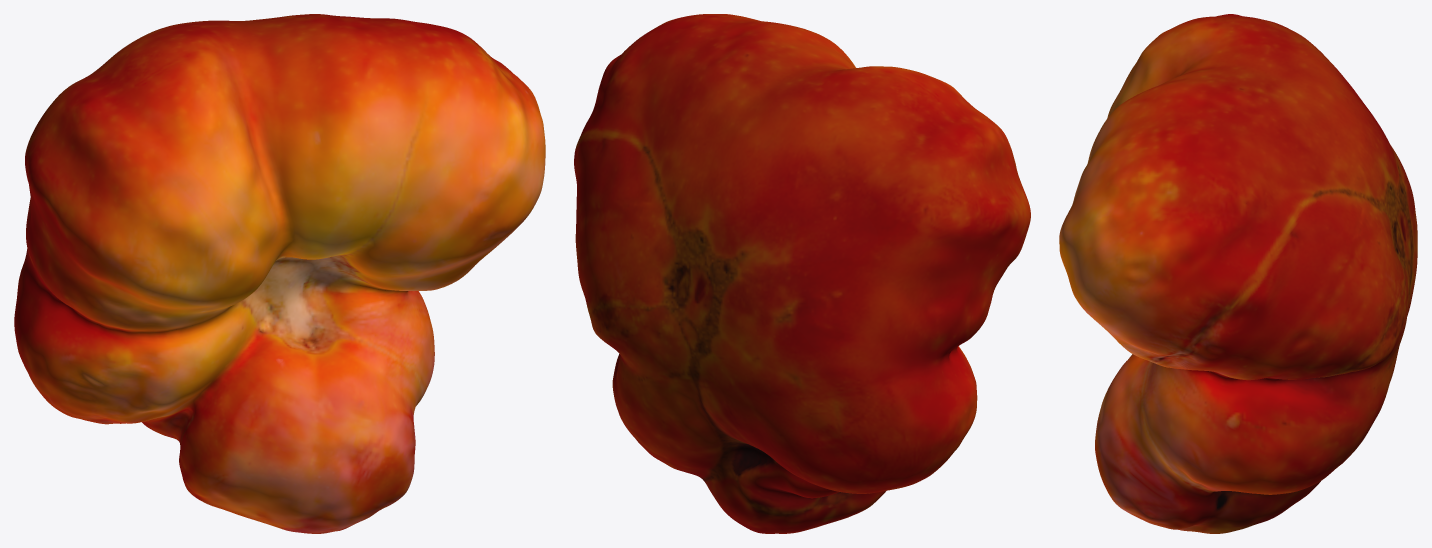
Rendered from tomatodiseased.glb.
3 views of the same model, side by side, from view 1: azimuth 30°, elevation 25°; view 2: azimuth 150°, elevation 25°; view 3: azimuth 270°, elevation 25° (orthographic). The views are drawn at different scales.
Visible parts, largest first — view 1: tomatodiseased.022; view 2: tomatodiseased.022; view 3: tomatodiseased.022.
Boxes of the visible parts, left/top/right/bottom form: tomatodiseased.022: left=14, top=14, right=545, bottom=533; tomatodiseased.022: left=574, top=14, right=1030, bottom=533; tomatodiseased.022: left=1059, top=14, right=1417, bottom=533.
Size of the model in its own units: 0.0331 by 0.0345 by 0.0246.
1 material, 1 textured.
